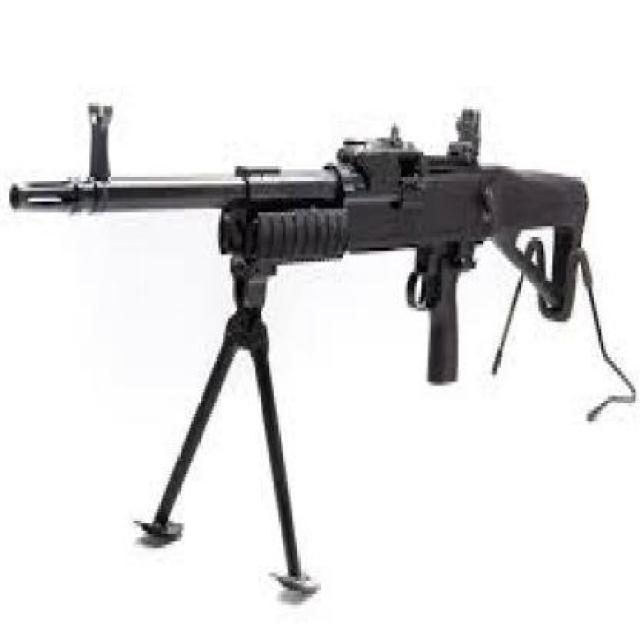weapon: (5, 52, 609, 632)
